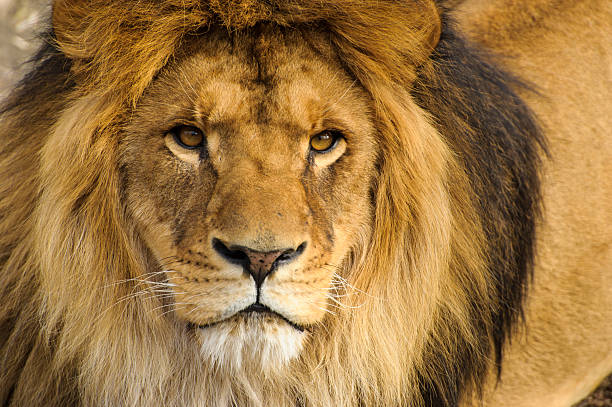lion: (4, 2, 552, 407)
